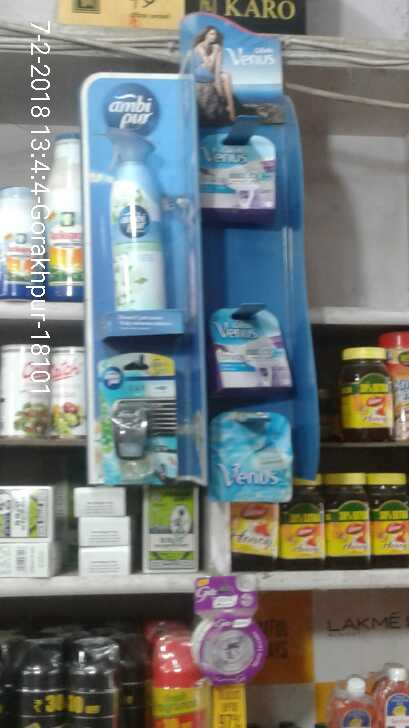beauty: (208, 409, 297, 499), (207, 304, 298, 392), (196, 126, 277, 217)
home: (103, 118, 169, 306), (92, 350, 182, 487)
